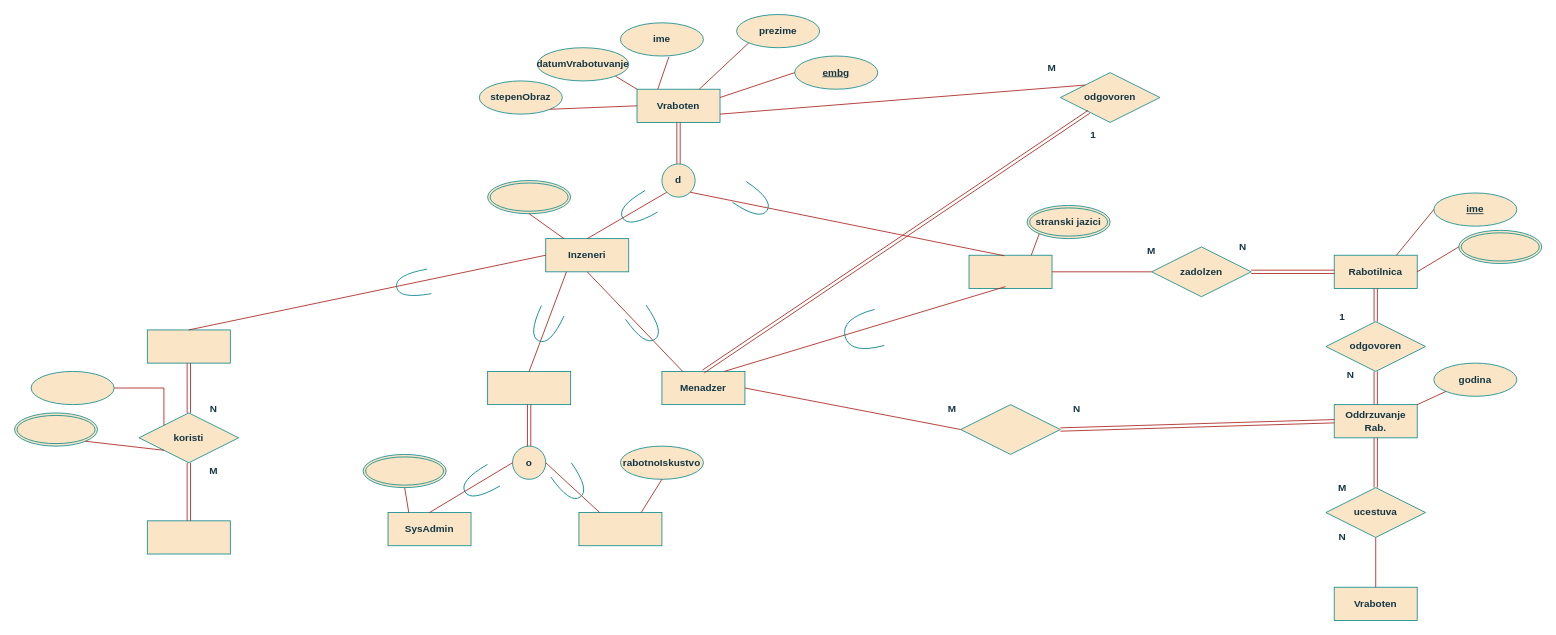
This 1556x635 diagram has some shape labels left out. The shapes that lost their labels are listed below. From the top down, each one's centre as x and y in pixels, then its label:
point 529,197: kursevi
point 1500,246: temi
point 1010,271: Komercijalist
point 188,346: Programer
point 72,388: stepenPodg.
point 529,388: Admin
point 56,429: funkcionalnosti
point 1010,429: predava
point 404,471: OS
point 188,537: Tehnologii
point 620,529: NetwrokAdmin
